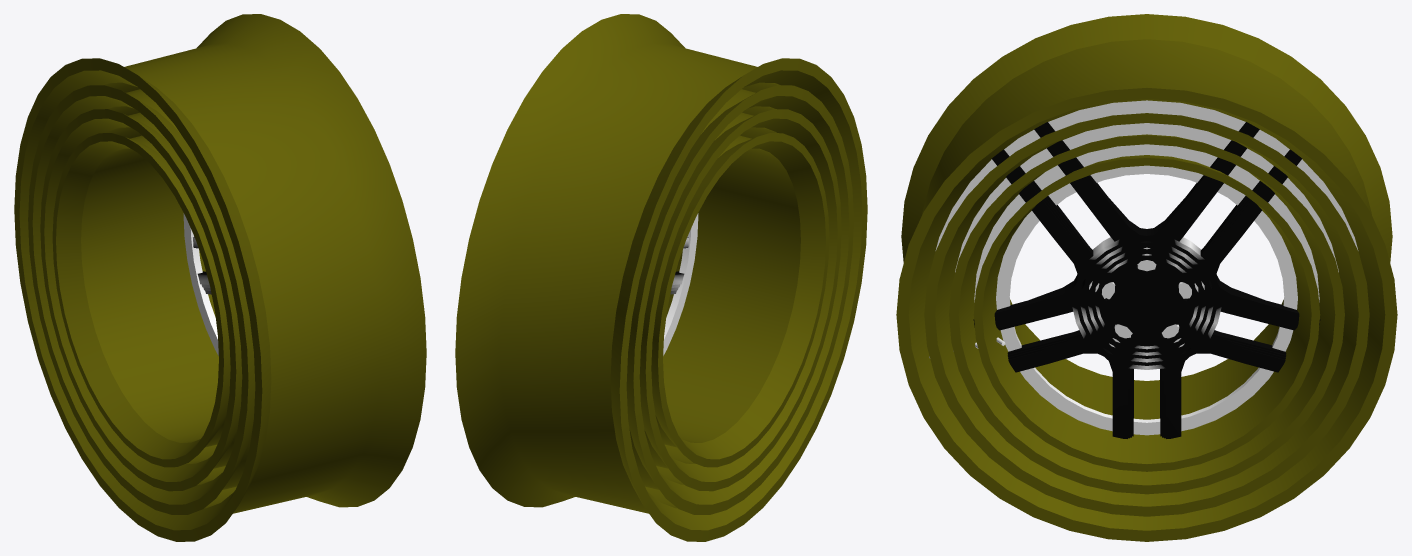
File: Rim_11.FBX
The picture shows the model from 3 angles, left to right: view 1: azimuth 30°, elevation 25°; view 2: azimuth 150°, elevation 25°; view 3: azimuth 270°, elevation 25°; orthographic projection.
Parts seen in each view (by area): view 1: Rim_11_XL_InsideDetailed, Rim_11_S_Lod0, Rim_11_XL_Lod0, Rim_11_M_InsideDetailed, Rim_11_L_Lod0, Rim_11_L_InsideDetailed, Rim_11_S_InsideDetailed; view 2: Rim_11_XL_InsideDetailed, Rim_11_S_Lod0, Rim_11_XL_Lod0, Rim_11_M_InsideDetailed, Rim_11_L_Lod0, Rim_11_L_InsideDetailed, Rim_11_S_InsideDetailed; view 3: Rim_11_XL_Lod0, Rim_11_S_Lod0, Rim_11_XL_InsideDetailed, Rim_11_L_Lod0, Rim_11_M_InsideDetailed.
Part boxes in pixels (<box>): Rim_11_XL_InsideDetailed: <box>124,14,426,513</box>; Rim_11_S_Lod0: <box>52,133,223,467</box>; Rim_11_XL_Lod0: <box>14,58,262,541</box>; Rim_11_M_InsideDetailed: <box>40,109,242,491</box>; Rim_11_L_Lod0: <box>28,85,248,514</box>; Rim_11_L_InsideDetailed: <box>126,89,255,489</box>; Rim_11_S_InsideDetailed: <box>126,135,230,452</box>; Rim_11_XL_InsideDetailed: <box>455,14,757,513</box>; Rim_11_S_Lod0: <box>658,133,829,467</box>; Rim_11_XL_Lod0: <box>619,58,867,541</box>; Rim_11_M_InsideDetailed: <box>639,109,841,491</box>; Rim_11_L_Lod0: <box>633,85,853,514</box>; Rim_11_L_InsideDetailed: <box>626,89,755,489</box>; Rim_11_S_InsideDetailed: <box>651,135,755,452</box>; Rim_11_XL_Lod0: <box>896,88,1397,541</box>; Rim_11_S_Lod0: <box>973,158,1320,471</box>; Rim_11_XL_InsideDetailed: <box>901,14,1392,262</box>; Rim_11_L_Lod0: <box>924,113,1369,516</box>; Rim_11_M_InsideDetailed: <box>949,134,1344,494</box>.
Size of what is drawn, in the model's own units: 633 by 1704 by 1704.
